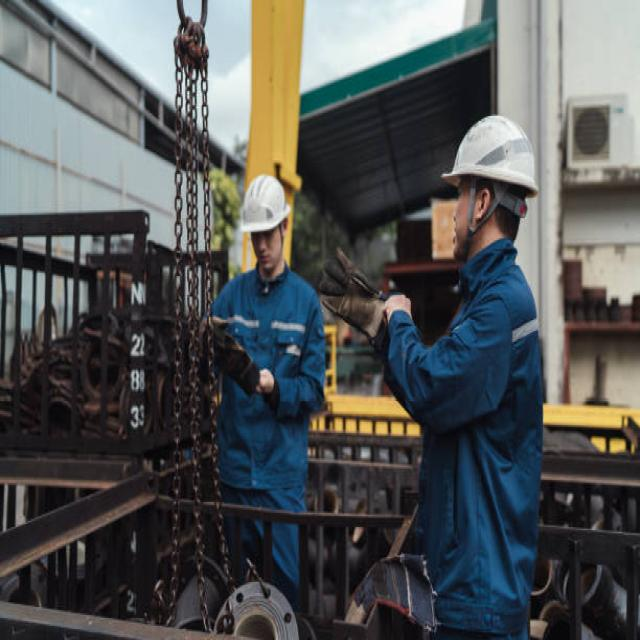Gloves: (318, 236, 395, 344), (203, 313, 271, 395)
Vest: (380, 230, 552, 640), (198, 257, 330, 640)
helmet: (438, 113, 543, 198), (235, 173, 296, 237)
person: (314, 108, 555, 640), (195, 172, 328, 640)
